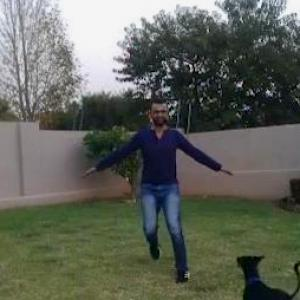land: (65, 68, 236, 299)
